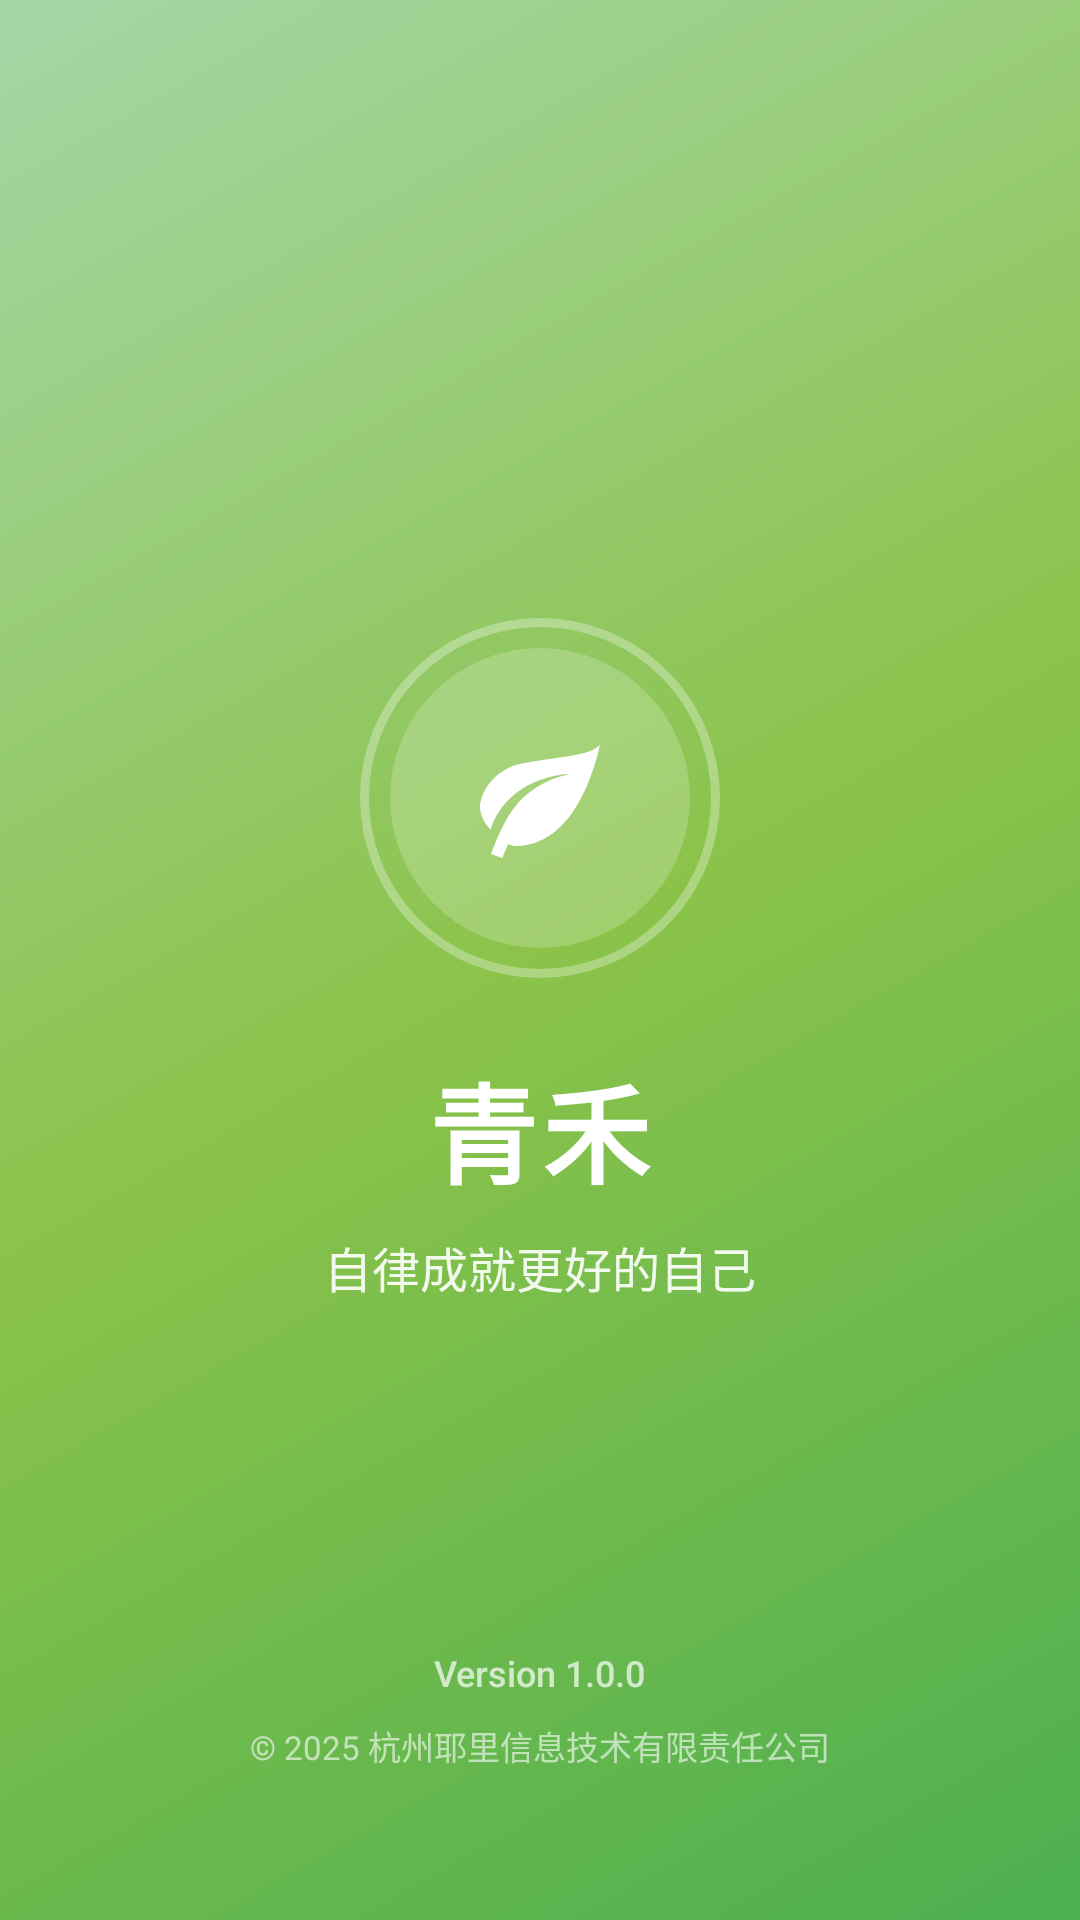

Locate icon controls on the screen. Image size 1080 × 1920, boxes as (x1, y1, x2, y2).
leaf: (480, 744, 600, 858)
